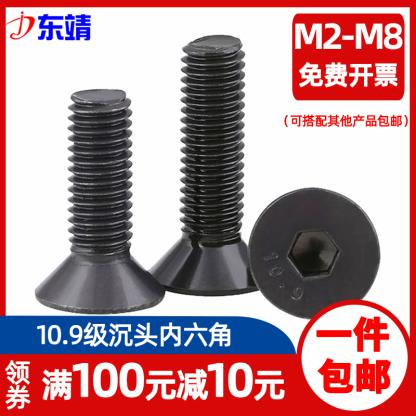FOD: (144, 31, 264, 305), (32, 84, 167, 317), (246, 183, 381, 319)
